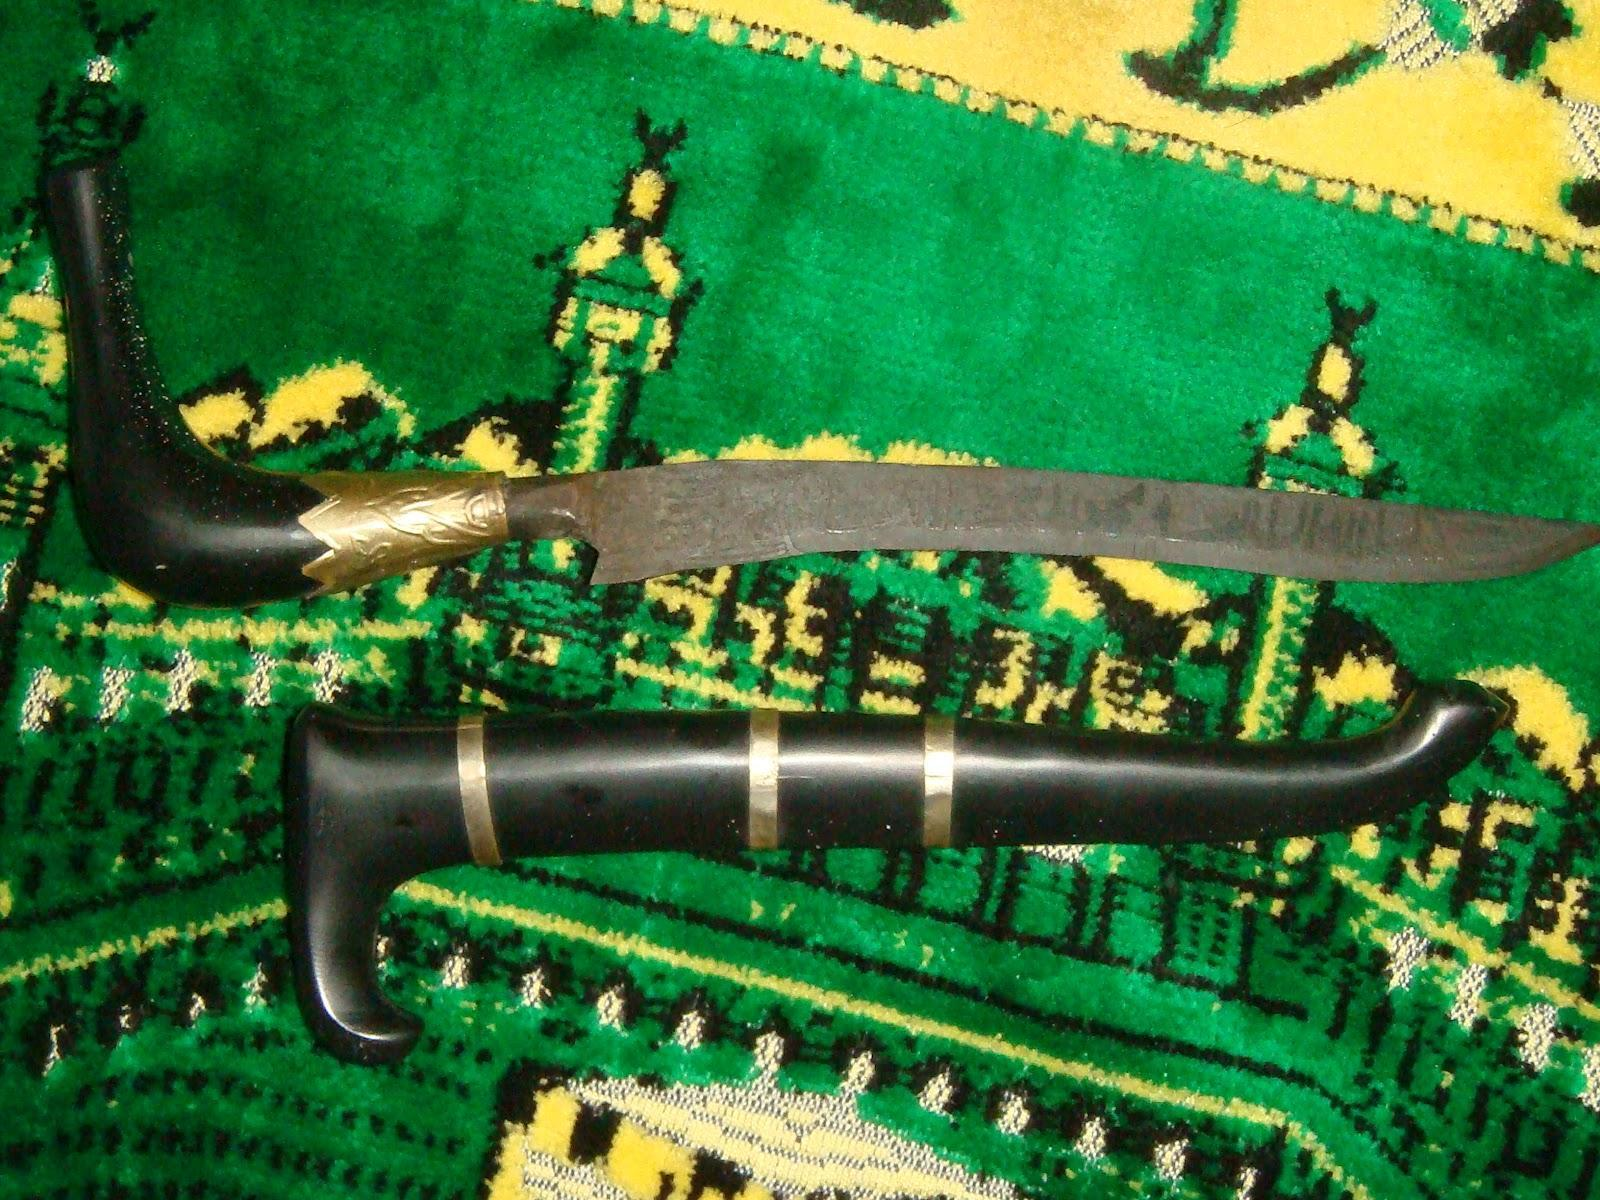espada: (47, 160, 1599, 606)
